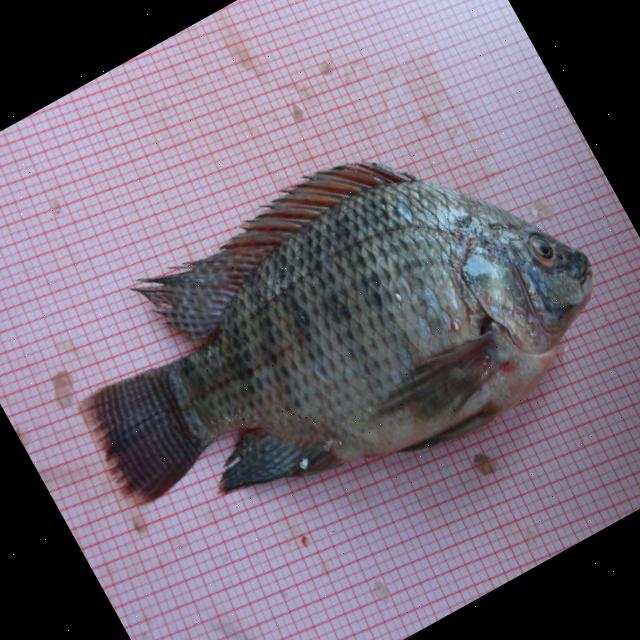ikan: (22, 71, 636, 600)
